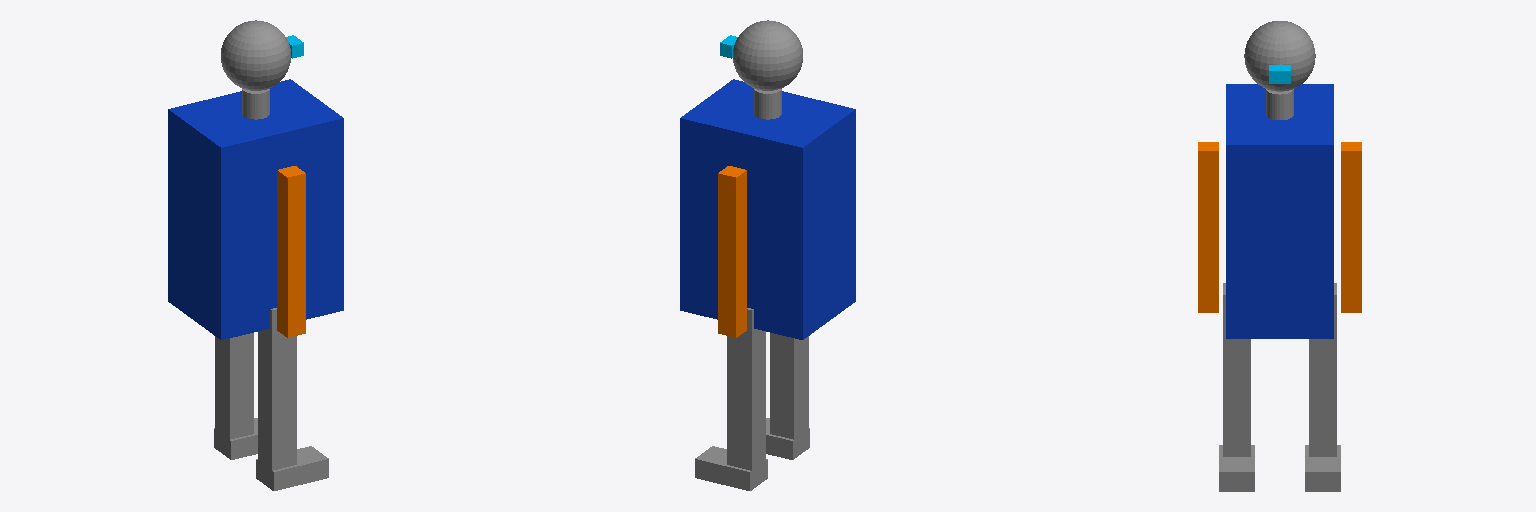
robot.urdf — my_robot:
<?xml version="1.0" ?>
<!-- =================================================================================== -->
<!-- |    This document was autogenerated by xacro from src/my_robot/urdf/robot.urdf.xacro | -->
<!-- |    EDITING THIS FILE BY HAND IS NOT RECOMMENDED                                 | -->
<!-- =================================================================================== -->
<!--
  xacro source of truth. Expand with:
      xacro robot.urdf.xacro > robot.urdf
  or let the launch file do it with:
      Command(['xacro ', path])

  Macros live in robot_parts.xacro (included below), so the arm and leg
  definitions exist exactly once.
-->
<robot name="my_robot">
  <!-- =========================== materials =========================== -->
  <material name="blue">
    <color rgba="0.10 0.30 0.80 1.0"/>
  </material>
  <material name="grey">
    <color rgba="0.60 0.60 0.60 1.0"/>
  </material>
  <material name="orange">
    <color rgba="1.00 0.50 0.00 1.0"/>
  </material>
  <material name="red">
    <color rgba="0.90 0.10 0.10 1.0"/>
  </material>
  <material name="glass">
    <color rgba="0.00 0.80 1.00 0.5"/>
  </material>
  <!-- ===================== links that exist once ===================== -->
  <link name="base_link">
    <visual>
      <geometry>
        <box size="0.4 0.3 0.6"/>
      </geometry>
      <origin rpy="0 0 0" xyz="0 0 0.8"/>
      <material name="blue"/>
    </visual>
    <collision>
      <geometry>
        <box size="0.4 0.3 0.6"/>
      </geometry>
      <origin rpy="0 0 0" xyz="0 0 0.8"/>
    </collision>
    <inertial>
      <mass value="8.0"/>
      <origin rpy="0 0 0" xyz="0 0 0.8"/>
      <inertia ixx="0.3" ixy="0.0" ixz="0.0" iyy="0.3466666666666667" iyz="0.0" izz="0.16666666666666666"/>
    </inertial>
  </link>
  <link name="neck">
    <visual>
      <geometry>
        <cylinder length="0.08" radius="0.04"/>
      </geometry>
      <origin rpy="0 0 0" xyz="0 0 0.04"/>
      <material name="grey"/>
    </visual>
    <collision>
      <geometry>
        <cylinder length="0.08" radius="0.04"/>
      </geometry>
      <origin rpy="0 0 0" xyz="0 0 0.04"/>
    </collision>
    <inertial>
      <mass value="0.2"/>
      <origin rpy="0 0 0" xyz="0 0 0.04"/>
      <inertia ixx="0.0001866666666666667" ixy="0.0" ixz="0.0" iyy="0.0001866666666666667" iyz="0.0" izz="0.00016"/>
    </inertial>
  </link>
  <link name="head">
    <visual>
      <geometry>
        <sphere radius="0.1"/>
      </geometry>
      <origin rpy="0 0 0" xyz="0 0 0.1"/>
      <material name="grey"/>
    </visual>
    <collision>
      <geometry>
        <sphere radius="0.1"/>
      </geometry>
      <origin rpy="0 0 0" xyz="0 0 0.1"/>
    </collision>
    <inertial>
      <mass value="1.0"/>
      <origin rpy="0 0 0" xyz="0 0 0.1"/>
      <inertia ixx="0.004000000000000001" ixy="0.0" ixz="0.0" iyy="0.004000000000000001" iyz="0.0" izz="0.004000000000000001"/>
    </inertial>
  </link>
  <link name="camera">
    <visual>
      <geometry>
        <box size="0.04 0.06 0.04"/>
      </geometry>
      <origin rpy="0 0 0" xyz="0 0 0"/>
      <material name="glass"/>
    </visual>
    <collision>
      <geometry>
        <box size="0.04 0.06 0.04"/>
      </geometry>
      <origin rpy="0 0 0" xyz="0 0 0"/>
    </collision>
    <inertial>
      <mass value="0.1"/>
      <origin rpy="0 0 0" xyz="0 0 0"/>
      <inertia ixx="4.333333333333333e-05" ixy="0.0" ixz="0.0" iyy="2.666666666666667e-05" iyz="0.0" izz="4.333333333333333e-05"/>
    </inertial>
  </link>
  <joint name="base_to_neck" type="fixed">
    <parent link="base_link"/>
    <child link="neck"/>
    <origin rpy="0 0 0" xyz="0 0 1.1"/>
  </joint>
  <joint name="neck_to_head" type="revolute">
    <parent link="neck"/>
    <child link="head"/>
    <origin rpy="0 0 0" xyz="0 0 0.08"/>
    <axis xyz="0 0 1"/>
    <limit effort="5.0" lower="-1.0" upper="1.0" velocity="1.0"/>
    <dynamics damping="0.1" friction="0.05"/>
  </joint>
  <joint name="head_to_camera" type="fixed">
    <parent link="head"/>
    <child link="camera"/>
    <origin rpy="0 0 0" xyz="0.12 0 0.1"/>
  </joint>
  <link name="left_upper_arm">
    <visual>
      <geometry>
        <box size="0.25 0.06 0.06"/>
      </geometry>
      <origin rpy="0 0 0" xyz="0.125 0 0"/>
      <material name="orange"/>
    </visual>
    <collision>
      <geometry>
        <box size="0.25 0.06 0.06"/>
      </geometry>
      <origin rpy="0 0 0" xyz="0.125 0 0"/>
    </collision>
    <inertial>
      <mass value="0.8"/>
      <origin rpy="0 0 0" xyz="0.125 0 0"/>
      <inertia ixx="0.00048" ixy="0.0" ixz="0.0" iyy="0.004406666666666667" iyz="0.0" izz="0.004406666666666667"/>
    </inertial>
  </link>
  <link name="left_lower_arm">
    <visual>
      <geometry>
        <box size="0.25 0.06 0.06"/>
      </geometry>
      <origin rpy="0 0 0" xyz="0.125 0 0"/>
      <material name="orange"/>
    </visual>
    <collision>
      <geometry>
        <box size="0.25 0.06 0.06"/>
      </geometry>
      <origin rpy="0 0 0" xyz="0.125 0 0"/>
    </collision>
    <inertial>
      <mass value="0.5"/>
      <origin rpy="0 0 0" xyz="0.125 0 0"/>
      <inertia ixx="0.0003" ixy="0.0" ixz="0.0" iyy="0.002754166666666667" iyz="0.0" izz="0.002754166666666667"/>
    </inertial>
  </link>
  <link name="left_gripper">
    <visual>
      <geometry>
        <mesh filename="package://my_robot/meshes/gripper.stl" scale="1 1 1"/>
      </geometry>
      <origin rpy="0 0 0" xyz="0.04 0 0"/>
      <material name="red"/>
    </visual>
    <collision>
      <geometry>
        <box size="0.08 0.1 0.06"/>
      </geometry>
      <origin rpy="0 0 0" xyz="0.04 0 0"/>
    </collision>
    <inertial>
      <mass value="0.2"/>
      <origin rpy="0 0 0" xyz="0.04 0 0"/>
      <inertia ixx="0.00022666666666666668" ixy="0.0" ixz="0.0" iyy="0.00016666666666666666" iyz="0.0" izz="0.0002733333333333334"/>
    </inertial>
  </link>
  <joint name="base_to_left_upper_arm" type="continuous">
    <parent link="base_link"/>
    <child link="left_upper_arm"/>
    <origin rpy="0 1.5708 0" xyz="0 0.2 1.0"/>
    <axis xyz="0 1 0"/>
    <dynamics damping="0.1" friction="0.05"/>
  </joint>
  <joint name="left_elbow" type="revolute">
    <parent link="left_upper_arm"/>
    <child link="left_lower_arm"/>
    <origin rpy="0 0 0" xyz="0.25 0 0"/>
    <axis xyz="0 1 0"/>
    <limit effort="10.0" lower="-1.5708" upper="1.5708" velocity="1.0"/>
    <dynamics damping="0.1" friction="0.05"/>
  </joint>
  <joint name="left_wrist" type="fixed">
    <parent link="left_lower_arm"/>
    <child link="left_gripper"/>
    <origin rpy="0 0 0" xyz="0.25 0 0"/>
  </joint>
  <link name="right_upper_arm">
    <visual>
      <geometry>
        <box size="0.25 0.06 0.06"/>
      </geometry>
      <origin rpy="0 0 0" xyz="0.125 0 0"/>
      <material name="orange"/>
    </visual>
    <collision>
      <geometry>
        <box size="0.25 0.06 0.06"/>
      </geometry>
      <origin rpy="0 0 0" xyz="0.125 0 0"/>
    </collision>
    <inertial>
      <mass value="0.8"/>
      <origin rpy="0 0 0" xyz="0.125 0 0"/>
      <inertia ixx="0.00048" ixy="0.0" ixz="0.0" iyy="0.004406666666666667" iyz="0.0" izz="0.004406666666666667"/>
    </inertial>
  </link>
  <link name="right_lower_arm">
    <visual>
      <geometry>
        <box size="0.25 0.06 0.06"/>
      </geometry>
      <origin rpy="0 0 0" xyz="0.125 0 0"/>
      <material name="orange"/>
    </visual>
    <collision>
      <geometry>
        <box size="0.25 0.06 0.06"/>
      </geometry>
      <origin rpy="0 0 0" xyz="0.125 0 0"/>
    </collision>
    <inertial>
      <mass value="0.5"/>
      <origin rpy="0 0 0" xyz="0.125 0 0"/>
      <inertia ixx="0.0003" ixy="0.0" ixz="0.0" iyy="0.002754166666666667" iyz="0.0" izz="0.002754166666666667"/>
    </inertial>
  </link>
  <link name="right_gripper">
    <visual>
      <geometry>
        <mesh filename="package://my_robot/meshes/gripper.stl" scale="1 1 1"/>
      </geometry>
      <origin rpy="0 0 0" xyz="0.04 0 0"/>
      <material name="red"/>
    </visual>
    <collision>
      <geometry>
        <box size="0.08 0.1 0.06"/>
      </geometry>
      <origin rpy="0 0 0" xyz="0.04 0 0"/>
    </collision>
    <inertial>
      <mass value="0.2"/>
      <origin rpy="0 0 0" xyz="0.04 0 0"/>
      <inertia ixx="0.00022666666666666668" ixy="0.0" ixz="0.0" iyy="0.00016666666666666666" iyz="0.0" izz="0.0002733333333333334"/>
    </inertial>
  </link>
  <joint name="base_to_right_upper_arm" type="continuous">
    <parent link="base_link"/>
    <child link="right_upper_arm"/>
    <origin rpy="0 1.5708 0" xyz="0 -0.2 1.0"/>
    <axis xyz="0 1 0"/>
    <dynamics damping="0.1" friction="0.05"/>
  </joint>
  <joint name="right_elbow" type="revolute">
    <parent link="right_upper_arm"/>
    <child link="right_lower_arm"/>
    <origin rpy="0 0 0" xyz="0.25 0 0"/>
    <axis xyz="0 1 0"/>
    <limit effort="10.0" lower="-1.5708" upper="1.5708" velocity="1.0"/>
    <dynamics damping="0.1" friction="0.05"/>
  </joint>
  <joint name="right_wrist" type="fixed">
    <parent link="right_lower_arm"/>
    <child link="right_gripper"/>
    <origin rpy="0 0 0" xyz="0.25 0 0"/>
  </joint>
  <link name="left_upper_leg">
    <visual>
      <geometry>
        <box size="0.25 0.08 0.08"/>
      </geometry>
      <origin rpy="0 0 0" xyz="0.125 0 0"/>
      <material name="grey"/>
    </visual>
    <collision>
      <geometry>
        <box size="0.25 0.08 0.08"/>
      </geometry>
      <origin rpy="0 0 0" xyz="0.125 0 0"/>
    </collision>
    <inertial>
      <mass value="1.0"/>
      <origin rpy="0 0 0" xyz="0.125 0 0"/>
      <inertia ixx="0.0010666666666666667" ixy="0.0" ixz="0.0" iyy="0.005741666666666667" iyz="0.0" izz="0.005741666666666667"/>
    </inertial>
  </link>
  <link name="left_lower_leg">
    <visual>
      <geometry>
        <box size="0.25 0.08 0.08"/>
      </geometry>
      <origin rpy="0 0 0" xyz="0.125 0 0"/>
      <material name="grey"/>
    </visual>
    <collision>
      <geometry>
        <box size="0.25 0.08 0.08"/>
      </geometry>
      <origin rpy="0 0 0" xyz="0.125 0 0"/>
    </collision>
    <inertial>
      <mass value="0.6"/>
      <origin rpy="0 0 0" xyz="0.125 0 0"/>
      <inertia ixx="0.00064" ixy="0.0" ixz="0.0" iyy="0.003445" iyz="0.0" izz="0.003445"/>
    </inertial>
  </link>
  <link name="left_foot">
    <visual>
      <geometry>
        <box size="0.06 0.1 0.18"/>
      </geometry>
      <origin rpy="0 0 0" xyz="0.03 0 0.05"/>
      <material name="grey"/>
    </visual>
    <collision>
      <geometry>
        <box size="0.06 0.1 0.18"/>
      </geometry>
      <origin rpy="0 0 0" xyz="0.03 0 0.05"/>
    </collision>
    <inertial>
      <mass value="0.3"/>
      <origin rpy="0 0 0" xyz="0.03 0 0.05"/>
      <inertia ixx="0.00106" ixy="0.0" ixz="0.0" iyy="0.0008999999999999999" iyz="0.0" izz="0.00034"/>
    </inertial>
  </link>
  <joint name="base_to_left_upper_leg" type="continuous">
    <parent link="base_link"/>
    <child link="left_upper_leg"/>
    <origin rpy="0 1.5708 0" xyz="0 0.12 0.56"/>
    <axis xyz="0 1 0"/>
    <limit effort="10.0" lower="-1.5708" upper="1.5708" velocity="1.0"/>
    <dynamics damping="0.1" friction="0.05"/>
  </joint>
  <joint name="left_knee" type="revolute">
    <parent link="left_upper_leg"/>
    <child link="left_lower_leg"/>
    <origin rpy="0 0 0" xyz="0.25 0 0"/>
    <axis xyz="0 1 0"/>
    <limit effort="10.0" lower="-1.5708" upper="1.5708" velocity="1.0"/>
    <dynamics damping="0.1" friction="0.05"/>
  </joint>
  <joint name="left_ankle" type="fixed">
    <parent link="left_lower_leg"/>
    <child link="left_foot"/>
    <origin rpy="0 0 0" xyz="0.25 0 0"/>
  </joint>
  <link name="right_upper_leg">
    <visual>
      <geometry>
        <box size="0.25 0.08 0.08"/>
      </geometry>
      <origin rpy="0 0 0" xyz="0.125 0 0"/>
      <material name="grey"/>
    </visual>
    <collision>
      <geometry>
        <box size="0.25 0.08 0.08"/>
      </geometry>
      <origin rpy="0 0 0" xyz="0.125 0 0"/>
    </collision>
    <inertial>
      <mass value="1.0"/>
      <origin rpy="0 0 0" xyz="0.125 0 0"/>
      <inertia ixx="0.0010666666666666667" ixy="0.0" ixz="0.0" iyy="0.005741666666666667" iyz="0.0" izz="0.005741666666666667"/>
    </inertial>
  </link>
  <link name="right_lower_leg">
    <visual>
      <geometry>
        <box size="0.25 0.08 0.08"/>
      </geometry>
      <origin rpy="0 0 0" xyz="0.125 0 0"/>
      <material name="grey"/>
    </visual>
    <collision>
      <geometry>
        <box size="0.25 0.08 0.08"/>
      </geometry>
      <origin rpy="0 0 0" xyz="0.125 0 0"/>
    </collision>
    <inertial>
      <mass value="0.6"/>
      <origin rpy="0 0 0" xyz="0.125 0 0"/>
      <inertia ixx="0.00064" ixy="0.0" ixz="0.0" iyy="0.003445" iyz="0.0" izz="0.003445"/>
    </inertial>
  </link>
  <link name="right_foot">
    <visual>
      <geometry>
        <box size="0.06 0.1 0.18"/>
      </geometry>
      <origin rpy="0 0 0" xyz="0.03 0 0.05"/>
      <material name="grey"/>
    </visual>
    <collision>
      <geometry>
        <box size="0.06 0.1 0.18"/>
      </geometry>
      <origin rpy="0 0 0" xyz="0.03 0 0.05"/>
    </collision>
    <inertial>
      <mass value="0.3"/>
      <origin rpy="0 0 0" xyz="0.03 0 0.05"/>
      <inertia ixx="0.00106" ixy="0.0" ixz="0.0" iyy="0.0008999999999999999" iyz="0.0" izz="0.00034"/>
    </inertial>
  </link>
  <joint name="base_to_right_upper_leg" type="continuous">
    <parent link="base_link"/>
    <child link="right_upper_leg"/>
    <origin rpy="0 1.5708 0" xyz="0 -0.12 0.56"/>
    <axis xyz="0 1 0"/>
    <limit effort="10.0" lower="-1.5708" upper="1.5708" velocity="1.0"/>
    <dynamics damping="0.1" friction="0.05"/>
  </joint>
  <joint name="right_knee" type="revolute">
    <parent link="right_upper_leg"/>
    <child link="right_lower_leg"/>
    <origin rpy="0 0 0" xyz="0.25 0 0"/>
    <axis xyz="0 1 0"/>
    <limit effort="10.0" lower="-1.5708" upper="1.5708" velocity="1.0"/>
    <dynamics damping="0.1" friction="0.05"/>
  </joint>
  <joint name="right_ankle" type="fixed">
    <parent link="right_lower_leg"/>
    <child link="right_foot"/>
    <origin rpy="0 0 0" xyz="0.25 0 0"/>
  </joint>
</robot>

--- What the picture shows (computed from the rendered views, not written in the file) ---
3 views of the same robot in one strip: view 1: azimuth 30°, elevation 25°; view 2: azimuth 150°, elevation 25°; view 3: azimuth 270°, elevation 25° (orthographic).
Robot: my_robot — 16 links, 15 joints (5 revolute, 4 continuous, 6 fixed); root link base_link; default pose: all joints at 0.
Visible links, largest first — view 1: base_link, head, left_lower_leg, right_lower_leg, right_upper_arm, right_lower_arm, right_upper_leg, right_foot, left_foot, neck, left_upper_leg; view 2: base_link, head, right_lower_leg, left_lower_leg, left_upper_arm, left_lower_arm, left_upper_leg, left_foot, right_foot, neck, right_upper_leg; view 3: base_link, head, left_lower_leg, right_lower_leg, left_upper_arm, right_upper_arm, left_lower_arm, right_lower_arm, left_foot, right_foot, left_upper_leg, right_upper_leg (+1 smaller).
Link boxes in pixels (x1,y1,x2,y2): base_link: (168, 79, 343, 339); head: (221, 20, 290, 90); left_lower_leg: (215, 349, 253, 439); right_lower_leg: (258, 381, 296, 470); right_upper_arm: (277, 166, 305, 257); right_lower_arm: (277, 251, 305, 337); right_upper_leg: (258, 308, 296, 390); right_foot: (256, 446, 328, 490); left_foot: (214, 418, 257, 459); neck: (242, 89, 269, 119); left_upper_leg: (215, 333, 253, 359); base_link: (680, 79, 855, 339); head: (733, 20, 802, 90); right_lower_leg: (770, 349, 808, 439); left_lower_leg: (727, 381, 765, 470); left_upper_arm: (718, 166, 746, 257); left_lower_arm: (718, 251, 746, 337); left_upper_leg: (727, 308, 765, 390); left_foot: (695, 446, 767, 490); right_foot: (766, 418, 809, 459); neck: (754, 89, 781, 119); right_upper_leg: (770, 333, 808, 359); base_link: (1226, 84, 1333, 338); head: (1244, 21, 1315, 91); left_lower_leg: (1309, 376, 1336, 456); right_lower_leg: (1223, 376, 1250, 456); left_upper_arm: (1341, 142, 1361, 231); right_upper_arm: (1198, 142, 1218, 231); left_lower_arm: (1341, 232, 1361, 312); right_lower_arm: (1198, 232, 1218, 312); left_foot: (1305, 445, 1340, 491); right_foot: (1219, 445, 1254, 491); left_upper_leg: (1309, 283, 1336, 375); right_upper_leg: (1223, 283, 1250, 375).
Bounding box of the posed robot: 0.4 × 0.46 × 1.38 m (x, y, z).
0 mesh visuals loaded from 1 distinct referenced files (none loaded); not drawn: 2 (file found but could not be loaded).
